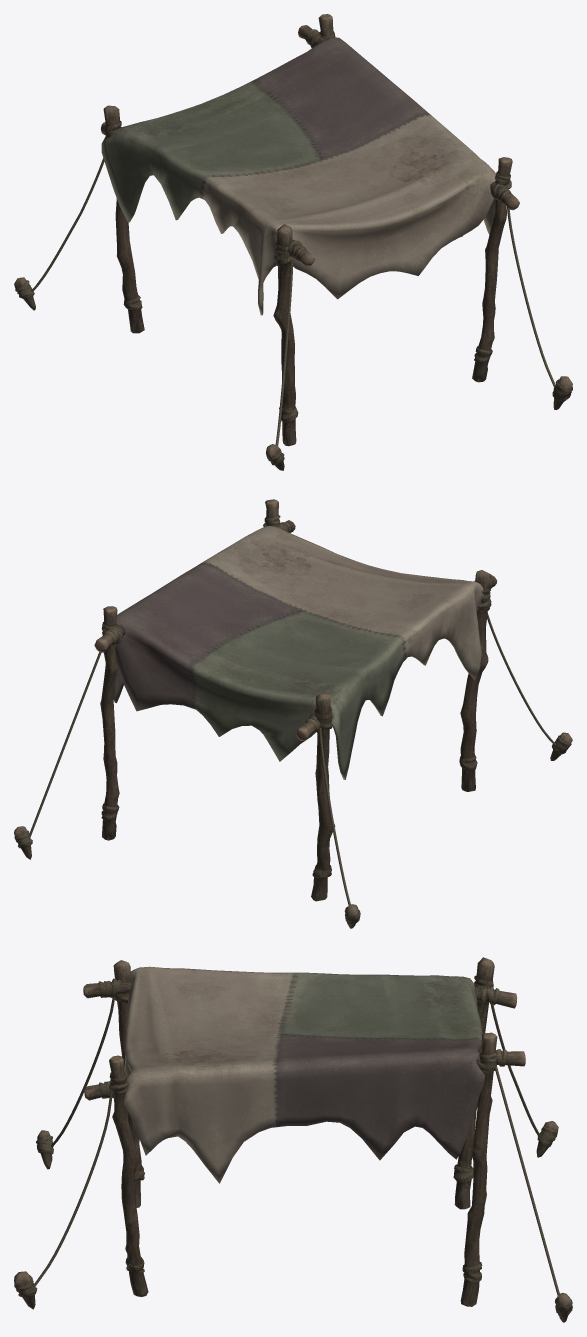
The model's file is MSH_fwOF_Tent_01_LOD0.fbx.
3 renders of one model, top to bottom at view 1: azimuth 30°, elevation 25°; view 2: azimuth 150°, elevation 25°; view 3: azimuth 270°, elevation 25°, orthographic. The views are drawn at different scales.
Parts seen in each view (by area): view 1: MSH_fwOF_Tent_01_LOD0, MSH_fwOF_Tent_01.001_LOD0; view 2: MSH_fwOF_Tent_01_LOD0, MSH_fwOF_Tent_01.001_LOD0; view 3: MSH_fwOF_Tent_01_LOD0, MSH_fwOF_Tent_01.001_LOD0.
Part boxes in pixels (<box>): MSH_fwOF_Tent_01_LOD0: <box>101,14,519,446</box>; MSH_fwOF_Tent_01.001_LOD0: <box>14,158,572,470</box>; MSH_fwOF_Tent_01_LOD0: <box>94,499,497,901</box>; MSH_fwOF_Tent_01.001_LOD0: <box>14,613,572,928</box>; MSH_fwOF_Tent_01_LOD0: <box>83,957,525,1306</box>; MSH_fwOF_Tent_01.001_LOD0: <box>14,997,572,1322</box>.
Size of what is drawn, in the model's own units: 6.31 by 4.51 by 8.19.
